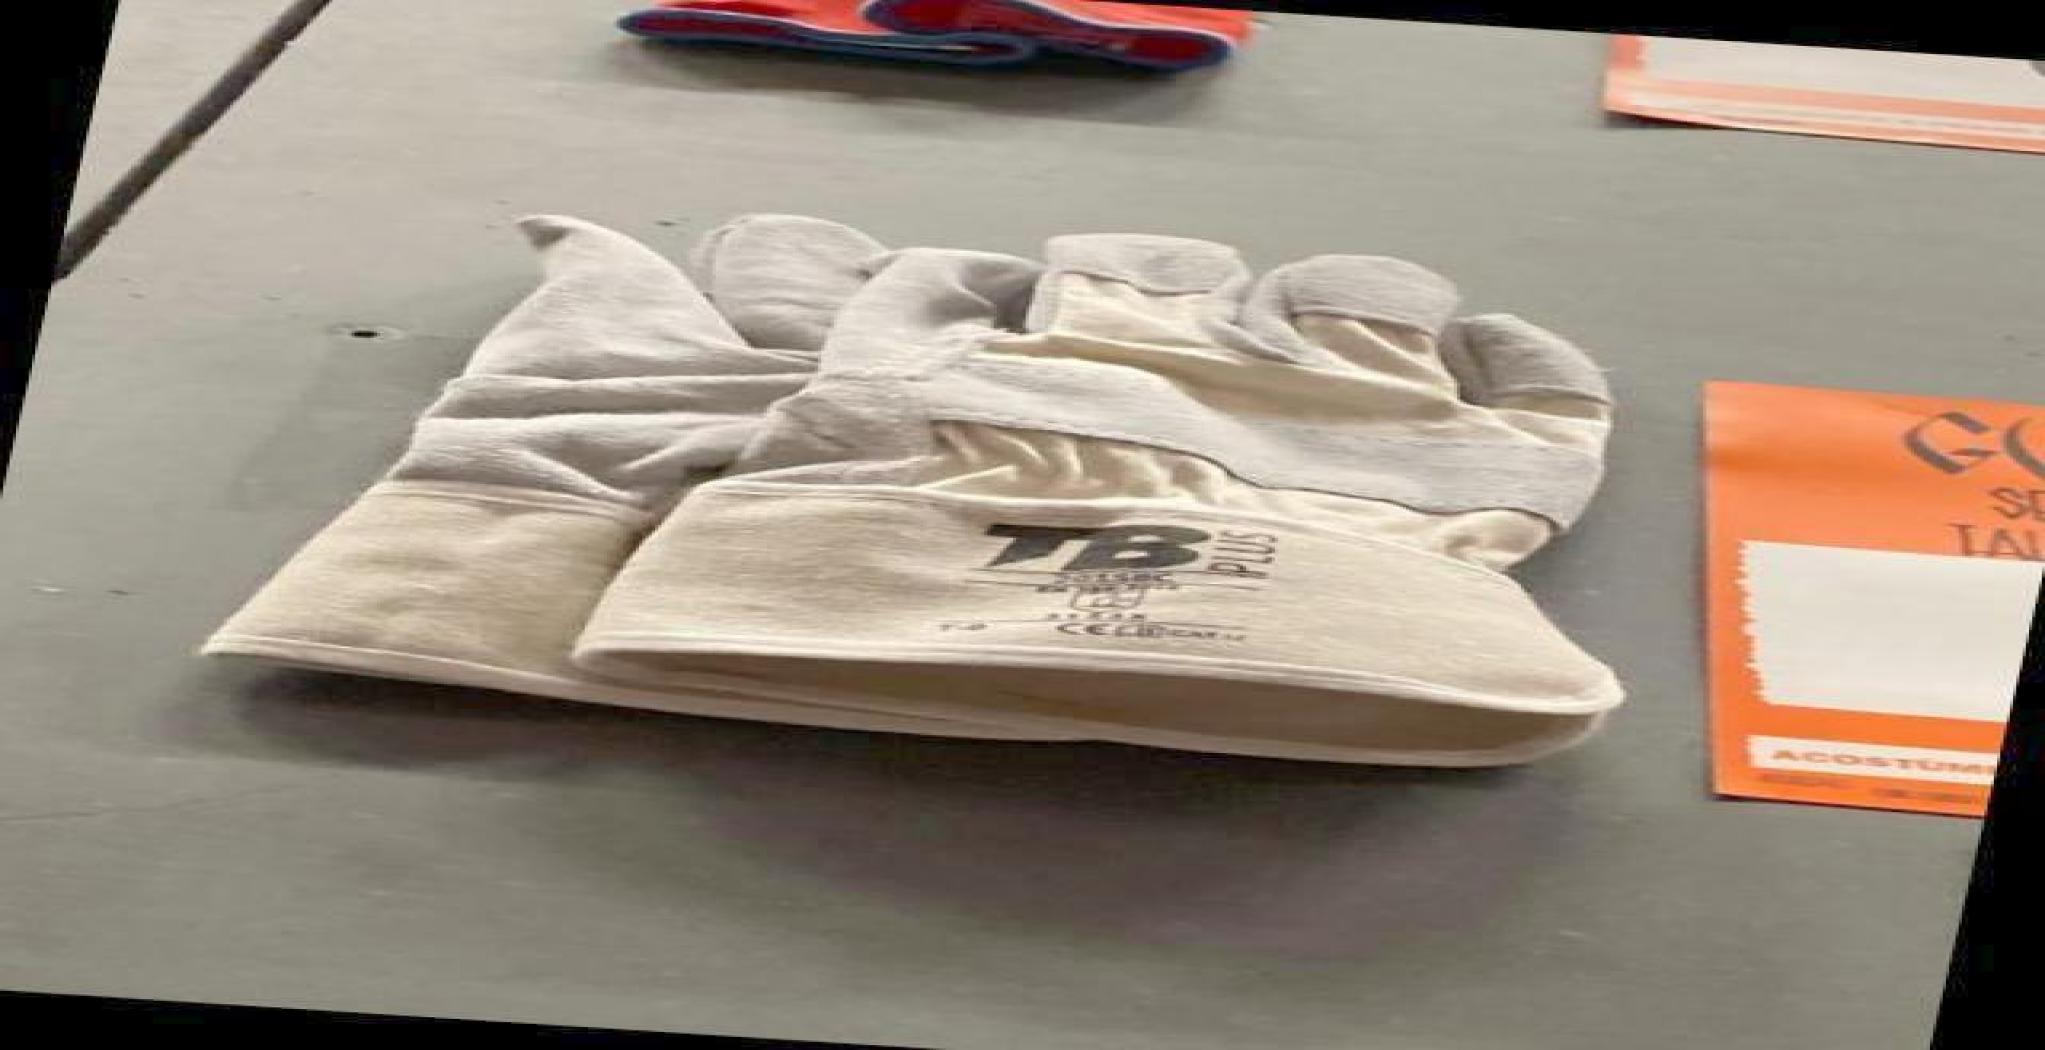gloved: (544, 190, 1584, 805)
